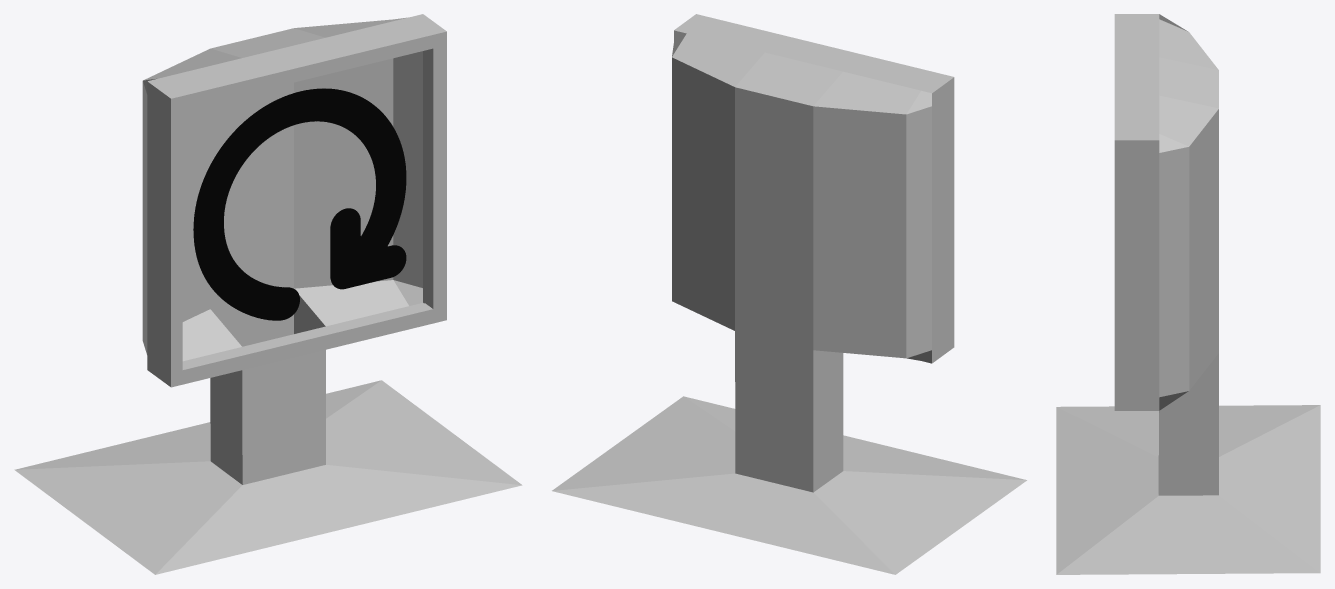
Rendered from Screen.fbx.
The picture shows the model from 3 angles, left to right: view 1: azimuth 30°, elevation 25°; view 2: azimuth 150°, elevation 25°; view 3: azimuth 270°, elevation 25°; orthographic projection. The views are drawn at different scales.
Visible parts, largest first — view 1: Billboard; view 2: Billboard; view 3: Billboard.
Boxes of the visible parts, bbox=[...] form: Billboard: bbox=[14, 14, 522, 574]; Billboard: bbox=[552, 14, 1026, 574]; Billboard: bbox=[1056, 14, 1320, 574].
Bounding box in the file's own units: 266 × 306 × 177.
